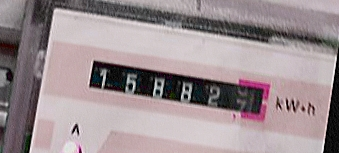1: (95, 64, 112, 87)
2: (204, 81, 223, 107)
5: (122, 68, 140, 94)
7: (234, 93, 248, 111)
8: (177, 78, 195, 103), (150, 74, 166, 98)
screen: (77, 48, 280, 130)
